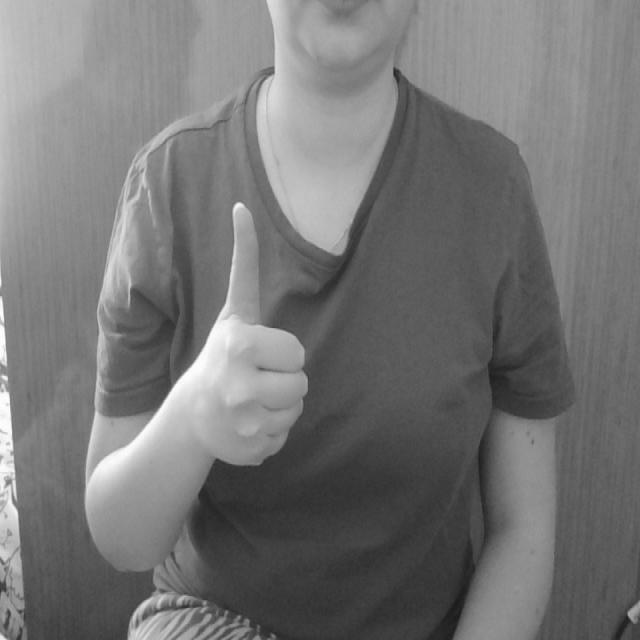Tamam: (192, 195, 309, 472)
